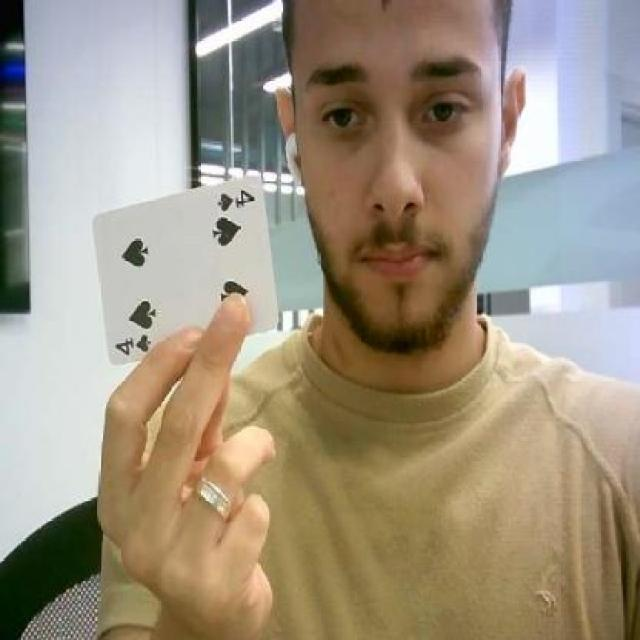4S: (211, 186, 255, 212), (114, 335, 158, 356)
